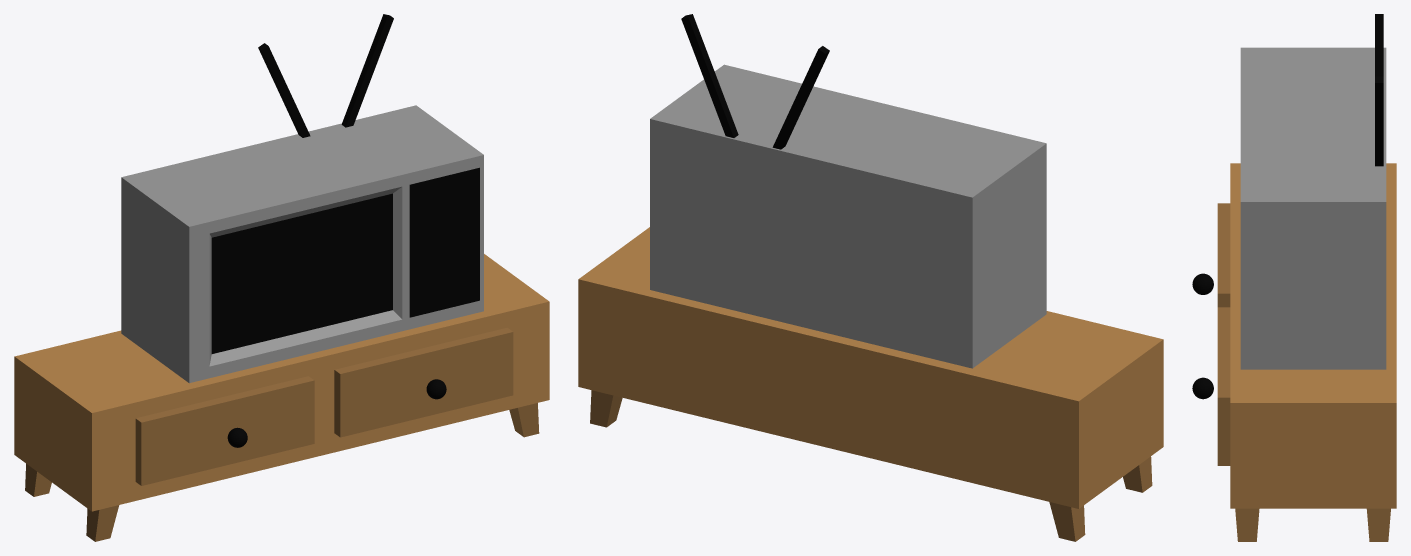
The picture shows the model from 3 angles, left to right: view 1: azimuth 30°, elevation 25°; view 2: azimuth 150°, elevation 25°; view 3: azimuth 270°, elevation 25°; orthographic projection. The views are drawn at different scales.
Parts seen in each view (by area): view 1: Cube.002; view 2: Cube.002; view 3: Cube.002.
Boxes of the visible parts, x1,y1,x2,y2 form: Cube.002: (14, 14, 549, 541); Cube.002: (578, 14, 1163, 541); Cube.002: (1192, 14, 1396, 541).
Bounding box in the file's own units: 256 × 209 × 92.07.
